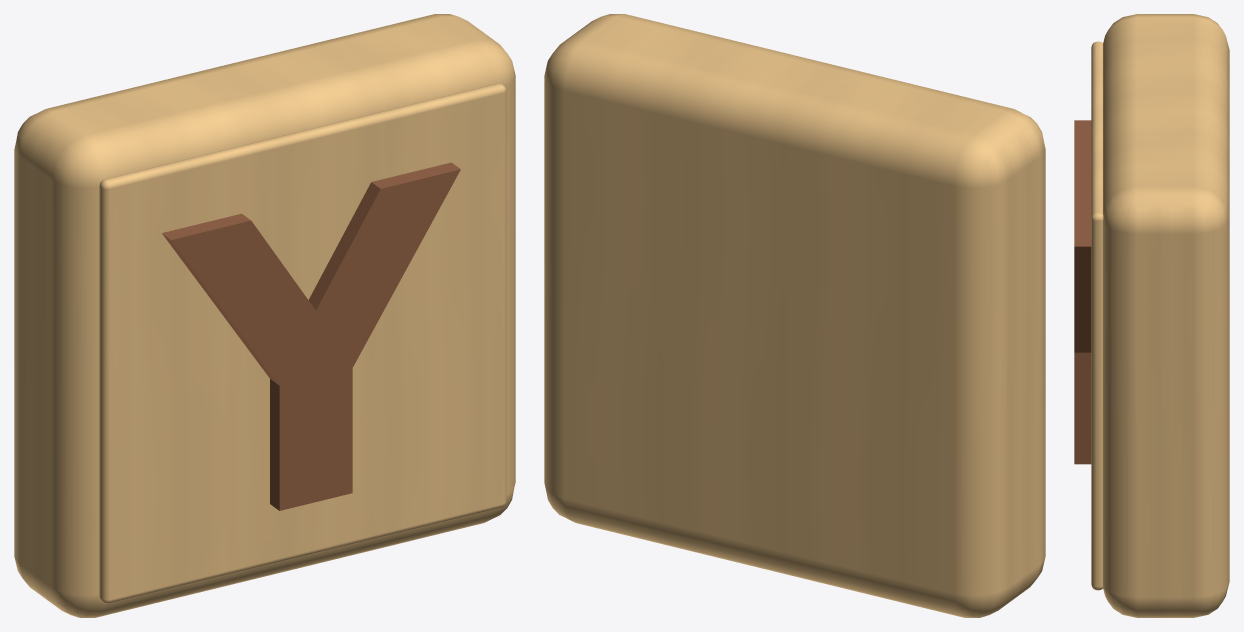
3 renders of one model, left to right at view 1: azimuth 30°, elevation 25°; view 2: azimuth 150°, elevation 25°; view 3: azimuth 270°, elevation 25°, orthographic. The views are drawn at different scales.
Visible parts, largest first — view 1: Tile_Y; view 2: Tile_Y; view 3: Tile_Y.
Boxes of the visible parts, <box> form: Tile_Y: <box>14,14,515,617</box>; Tile_Y: <box>544,14,1045,617</box>; Tile_Y: <box>1074,14,1229,617</box>.
Bounding box in the file's own units: 0.21 × 0.21 × 0.069.
2 materials, 1 textured.
